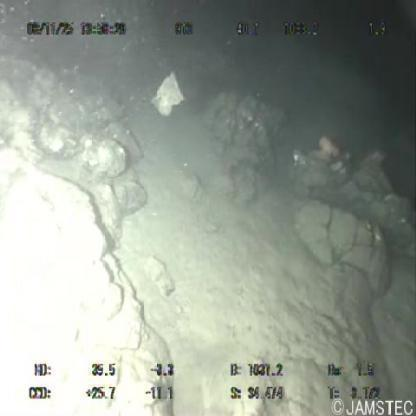Rác: (151, 73, 185, 119)
